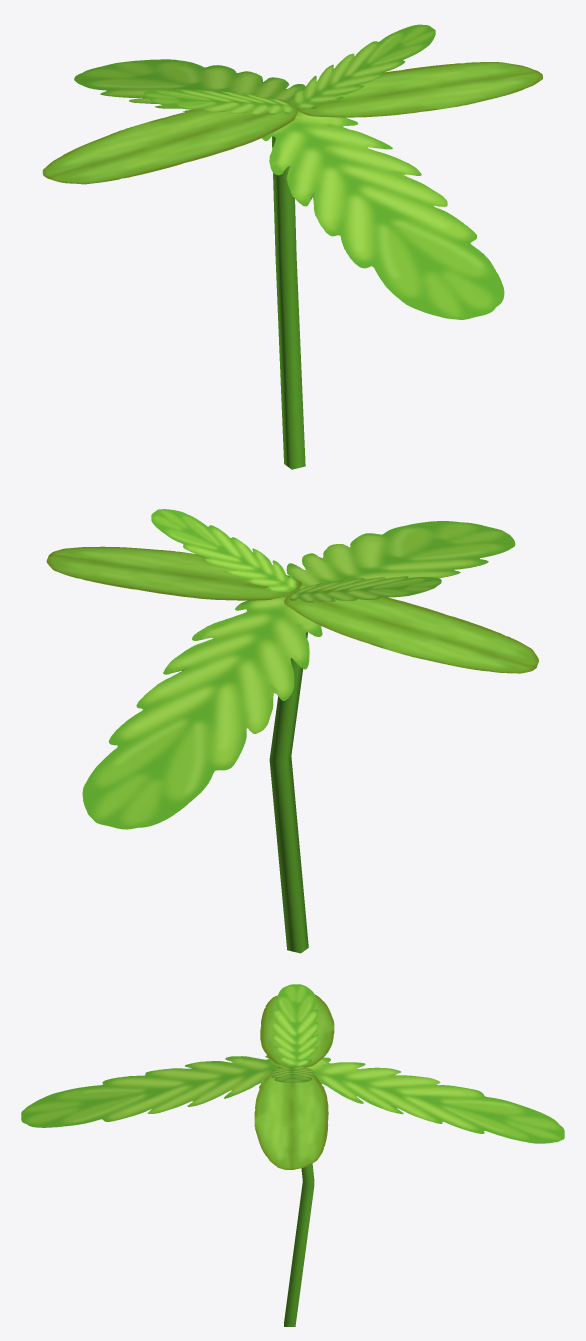
File: CannabisStage01_01.fbx
3 renders of one model, top to bottom at view 1: azimuth 30°, elevation 25°; view 2: azimuth 150°, elevation 25°; view 3: azimuth 270°, elevation 25°, orthographic. The views are drawn at different scales.
Visible parts, largest first — view 1: CannabisStage01_01_LOD0; view 2: CannabisStage01_01_LOD0; view 3: CannabisStage01_01_LOD0.
Boxes of the visible parts, x1,y1,x2,y2 form: CannabisStage01_01_LOD0: (42, 24, 542, 469); CannabisStage01_01_LOD0: (46, 509, 538, 953); CannabisStage01_01_LOD0: (21, 984, 564, 1326).
Size of what is drawn, in the model's own units: 21.7 by 16.62 by 28.77.
